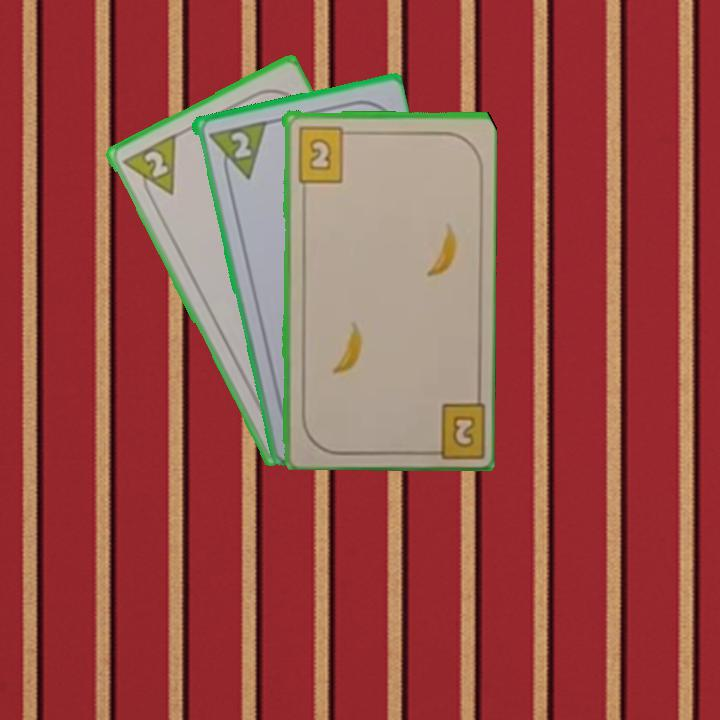2b: (420, 396, 485, 457), (294, 123, 355, 184)
2p: (118, 130, 179, 207), (226, 127, 254, 161)
